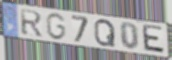0: (119, 21, 141, 51)
7: (70, 14, 91, 44)
E: (142, 24, 167, 56)
G: (45, 13, 68, 42)
Q: (94, 18, 117, 47)
R: (19, 9, 44, 38)
